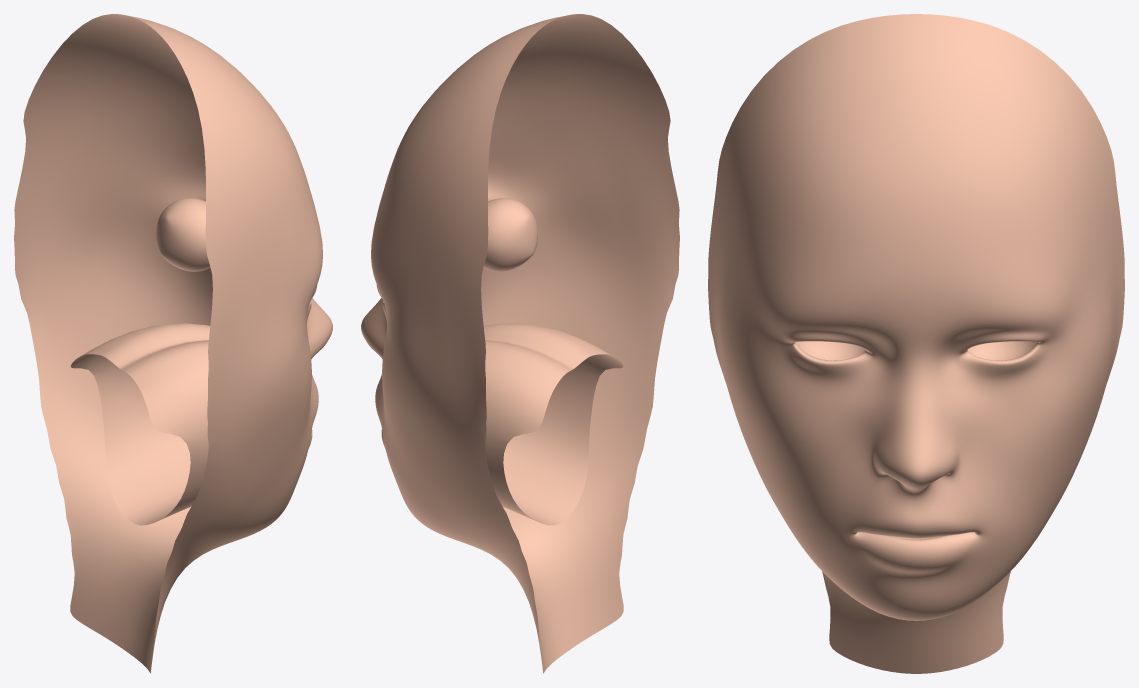
Rendered from eliza_face_donor.obj.
3 renders of one model, left to right at view 1: azimuth 30°, elevation 25°; view 2: azimuth 150°, elevation 25°; view 3: azimuth 270°, elevation 25°, orthographic. The views are drawn at different scales.
Visible parts, largest first — view 1: eliza_face_donor; view 2: eliza_face_donor; view 3: eliza_face_donor.
Boxes of the visible parts, left/top/right/bottom form: eliza_face_donor: left=14, top=14, right=332, bottom=673; eliza_face_donor: left=361, top=14, right=679, bottom=673; eliza_face_donor: left=708, top=14, right=1124, bottom=673.
Bounding box in the file's own units: 0.0585 × 0.1582 × 0.0892.
